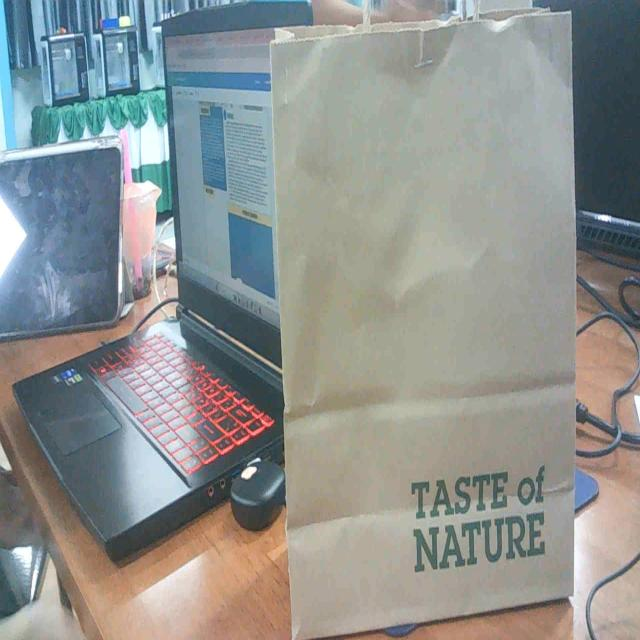bag: (248, 1, 591, 619)
